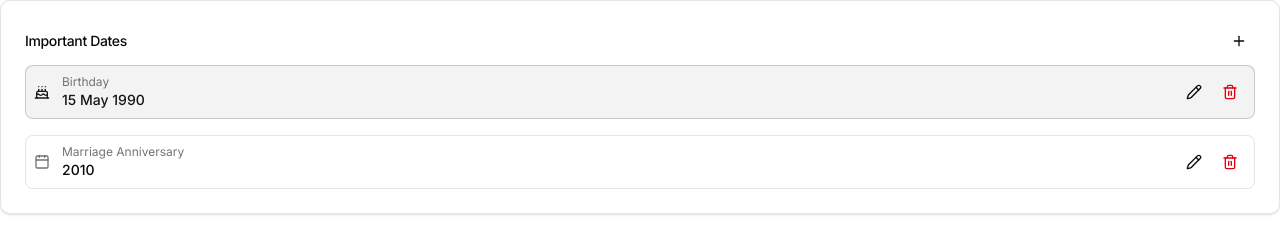
Test case: ImportantDatesList › edits only one row at a time
Click the button named "Edit birthday" at [1194, 92], box [1178, 76, 1210, 108]
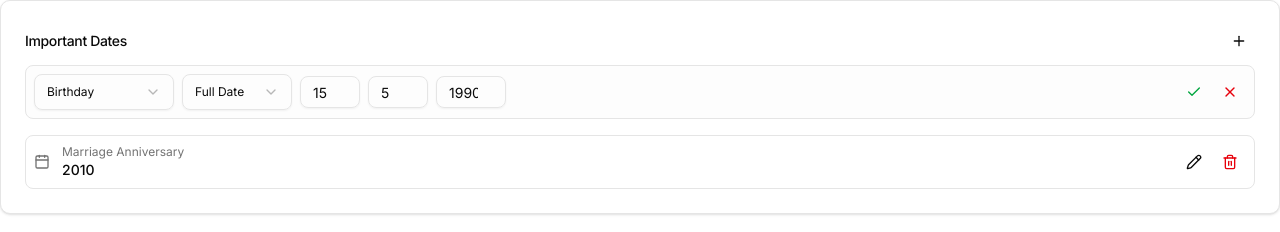
expect the number of buttons named "Save date" is 1: met, box [1178, 76, 1210, 108]
Click the button named "Edit marriage_anniversary" at [1194, 162], box [1178, 146, 1210, 178]
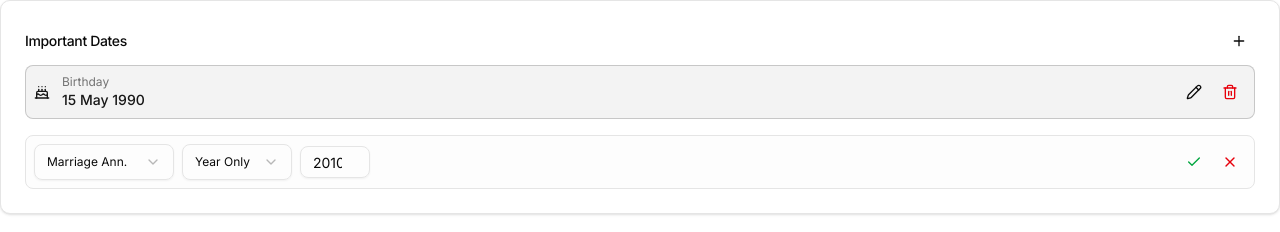
expect the number of buttons named "Save date" is 1: met, box [1178, 146, 1210, 178]
expect the number field showing "2010" is shown: met, box [300, 146, 370, 178]
